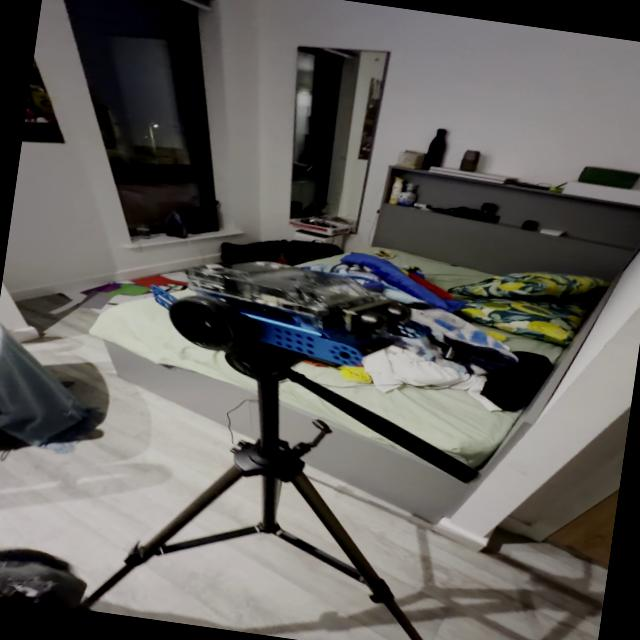mbot-detection: (132, 240, 422, 381)
